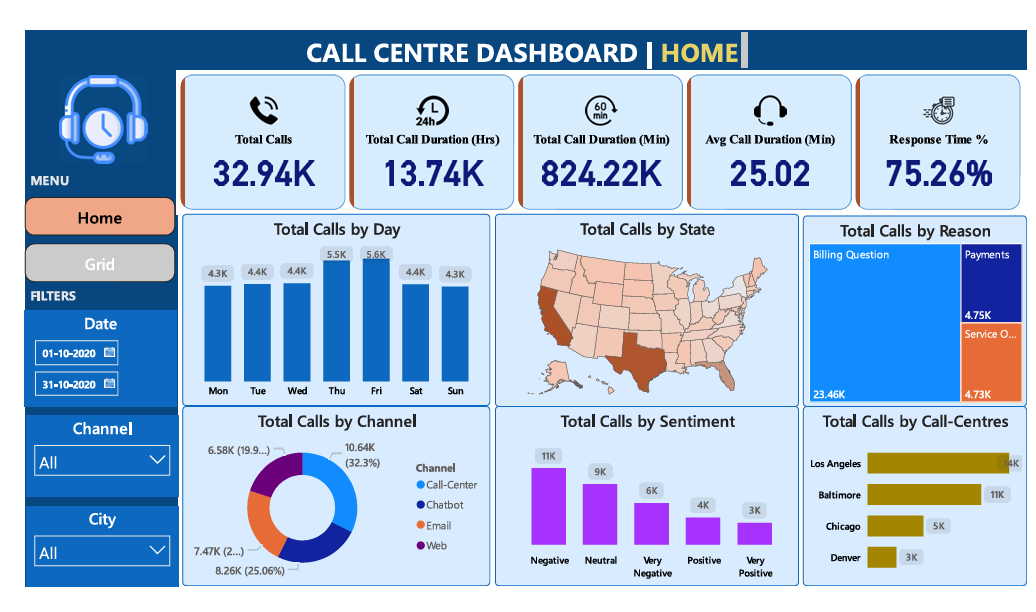

This screenshot's page, from the dashboard's own definition file:
{"tool":"powerbi","page":{"name":"Home","canvas":[1280,720],"ordinal":0},"visuals":[{"type":"shape","box":[13.6,13.6,1252.8,49.9],"z":0},{"type":"shape","box":[13.6,63.5,190.4,645.3],"z":1000},{"type":"cardVisual","fields":{"Data":["Call Center_Call Center.Total Calls","Call Center_Call Center.Total Call Duration (Hrs)","Call Center_Call Center.Total Call Duration (Min)","Call Center_Call Center.Avg Call Duration (Min)","Call Center_Call Center.Response Time %"]},"box":[203.2,63.8,1063,179.7],"z":2000},{"type":"textbox","box":[359.7,12.1,562.2,54.4],"z":3000},{"type":"columnChart","fields":{"Category":["Date Table.Day"],"Y":["Call Center_Call Center.Total Calls"]},"box":[209.9,243.5,385,240],"z":4000},{"type":"shapeMap","fields":{"Category":["Call Center_Call Center.State"],"Value":["Call Center_Call Center.Total Calls"]},"box":[601.2,243.5,379.5,240.1],"z":5000},{"type":"treemap","fields":{"Group":["Call Center_Call Center.Reason"],"Values":["Call Center_Call Center.Total Calls"]},"box":[985.7,245.2,280.4,238.5],"z":5001},{"type":"donutChart","fields":{"Category":["Call Center_Call Center.Channel"],"Y":["Call Center_Call Center.Total Calls"]},"box":[210,483,385,225],"z":5002},{"type":"columnChart","fields":{"Category":["Call Center_Call Center.Sentiment"],"Y":["Call Center_Call Center.Total Calls"]},"box":[601,483,380,225],"z":5003},{"type":"barChart","fields":{"Category":["Call Center_Call Center.Call-Centres"],"Y":["Call Center_Call Center.Total Calls"]},"box":[986,483,280,225],"z":5004},{"type":"slicer","title":"Date","fields":{"Values":["Date Table.Date"]},"box":[13.4,364.4,189.8,119.2],"z":5005},{"type":"slicer","title":"Channel","fields":{"Values":["Call Center_Call Center.Channel"]},"box":[15.1,495.4,189.8,100.8],"z":5006},{"type":"slicer","title":"City","fields":{"Values":["Call Center_Call Center.City"]},"box":[15.1,607.9,189.8,100.8],"z":5007},{"type":"image","box":[45.3,65.5,131,119.2],"z":5008},{"type":"pageNavigator","box":[13.4,221.7,188.1,107.5],"z":5009},{"type":"textbox","box":[15.1,184.7,78.9,36.9],"z":5010},{"type":"textbox","box":[15.1,329.1,78.9,35.3],"z":5011}]}

Visuals, with their boxes on the page's 1280x720 design canvas (x1, y1, x2, y2). These are canvas units, not pixel positions in the 1036x612 screenshot, which may show the page scaled, cropped or inside an application window:
shape: l=14, t=14, r=1266, b=64
shape: l=14, t=64, r=204, b=709
cardVisual - Call Center_Call Center.Total Calls x Call Center_Call Center.Total Call Duration (Hrs): l=203, t=64, r=1266, b=244
textbox: l=360, t=12, r=922, b=66
columnChart - Date Table.Day x Call Center_Call Center.Total Calls: l=210, t=244, r=595, b=484
shapeMap - Call Center_Call Center.State x Call Center_Call Center.Total Calls: l=601, t=244, r=981, b=484
treemap - Call Center_Call Center.Reason x Call Center_Call Center.Total Calls: l=986, t=245, r=1266, b=484
donutChart - Call Center_Call Center.Channel x Call Center_Call Center.Total Calls: l=210, t=483, r=595, b=708
columnChart - Call Center_Call Center.Sentiment x Call Center_Call Center.Total Calls: l=601, t=483, r=981, b=708
barChart - Call Center_Call Center.Call-Centres x Call Center_Call Center.Total Calls: l=986, t=483, r=1266, b=708
"Date" slicer: l=13, t=364, r=203, b=484
"Channel" slicer: l=15, t=495, r=205, b=596
"City" slicer: l=15, t=608, r=205, b=709
image: l=45, t=66, r=176, b=185
pageNavigator: l=13, t=222, r=202, b=329
textbox: l=15, t=185, r=94, b=222
textbox: l=15, t=329, r=94, b=364
